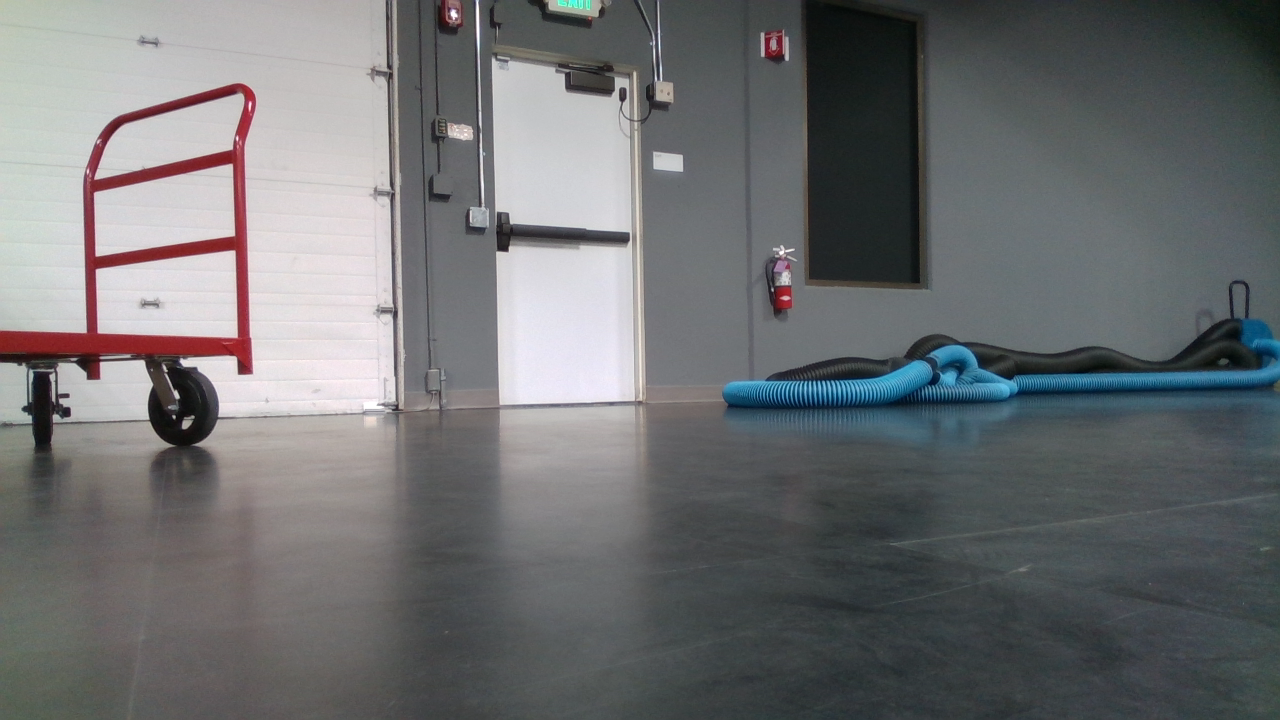Dolly: (0, 77, 266, 453)
Wheel: (146, 367, 221, 448), (30, 372, 56, 449)
